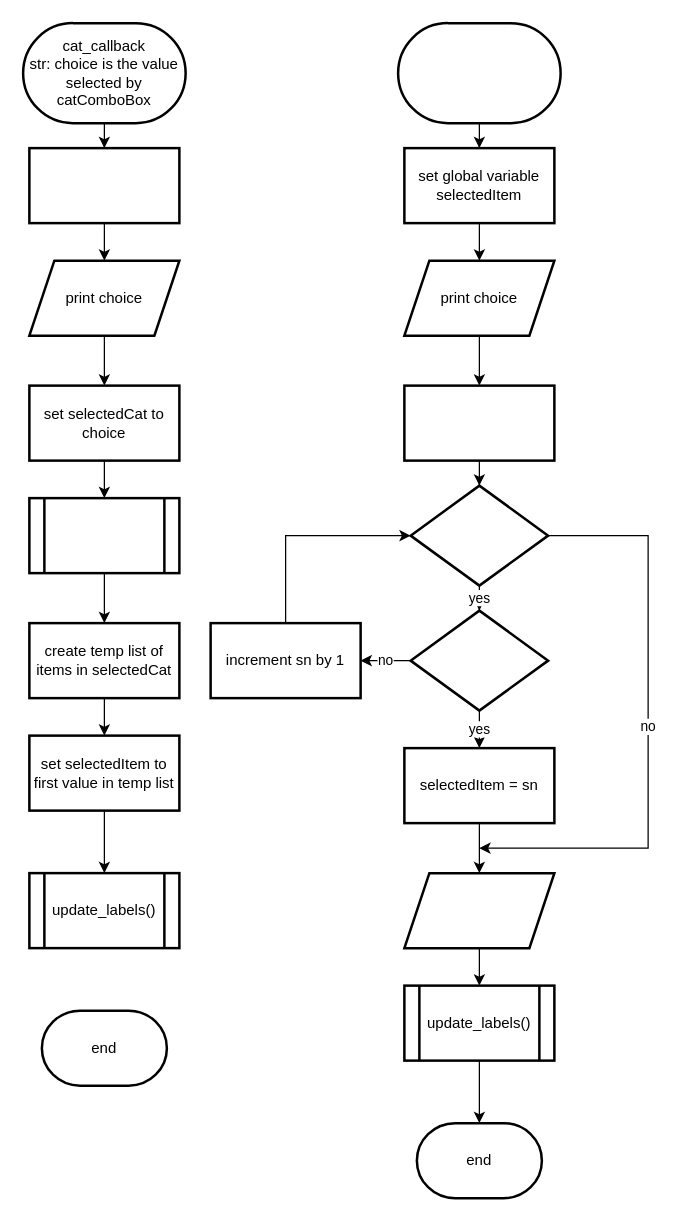
The diagram is 680 pixels wide and 1220 high, and some of its shapes have lost their labels. Here are the shapes that lost their labels. From the top down, the centre of each, then its label:
At pixel 478 72: "item_callback str: choice is the value selected by itemComboBox".
At pixel 104 185: "set global variables selectedCat, selectedItem, itemList".
At pixel 478 422: "sn = 0".
At pixel 104 535: "set itemList to get_items()".
At pixel 479 535: "is sn in selected category".
At pixel 479 660: "is name of sn equal to choice".
At pixel 478 910: "print selectedItem".
